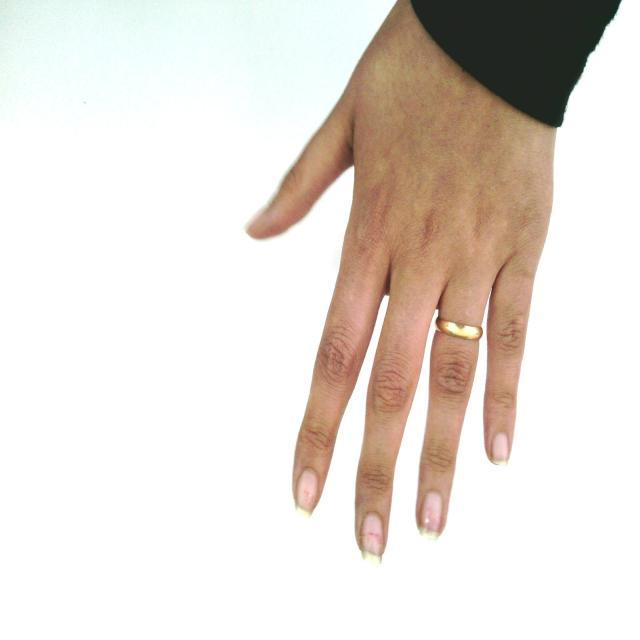Fingernail: (362, 514, 383, 564), (297, 469, 318, 516), (421, 492, 442, 538), (491, 432, 508, 465), (249, 202, 271, 225)
